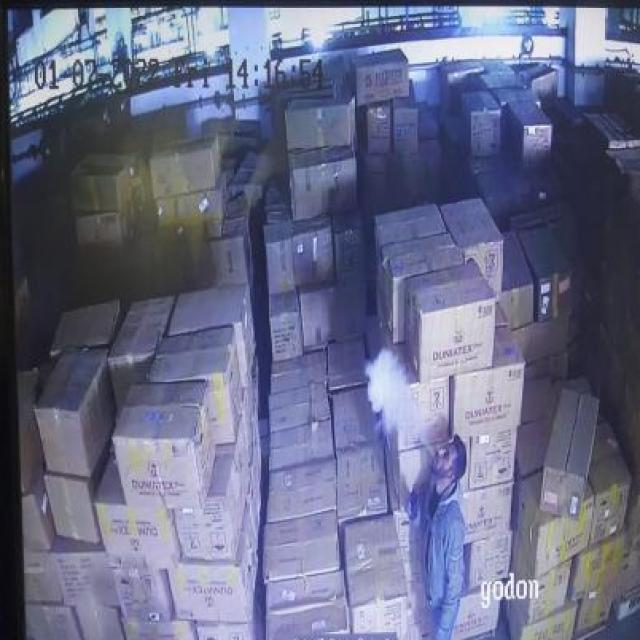fire: (364, 338, 427, 445)
